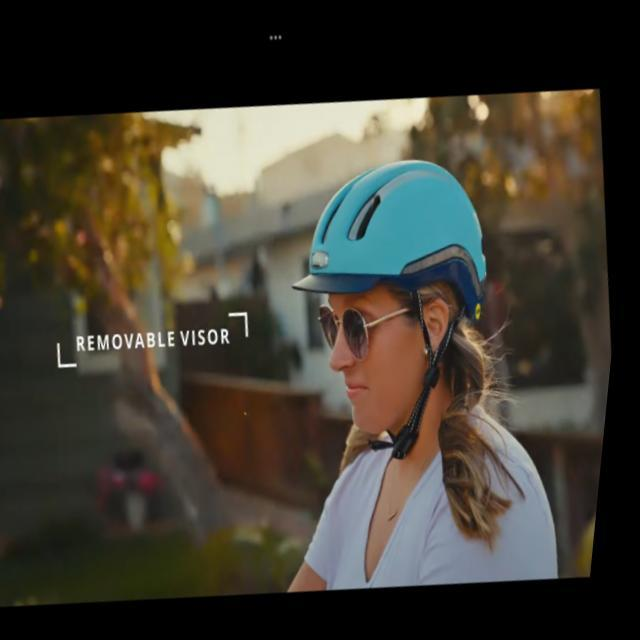Helmet: (286, 154, 504, 453)
